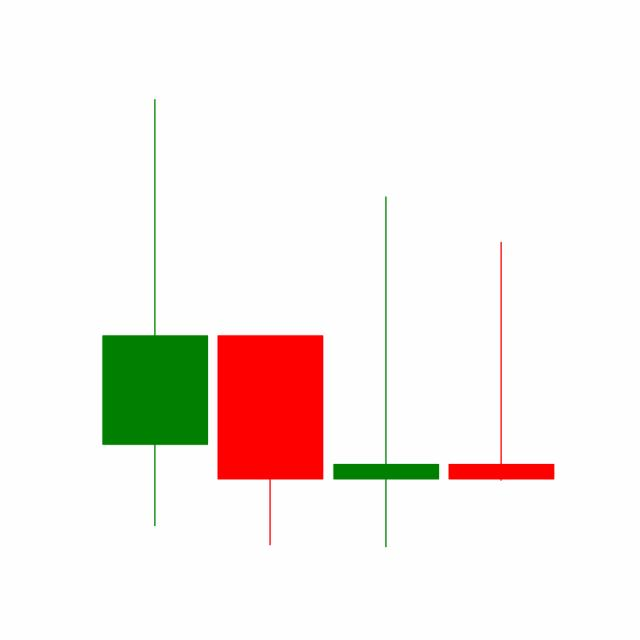Spinning Top: (328, 192, 444, 550)
